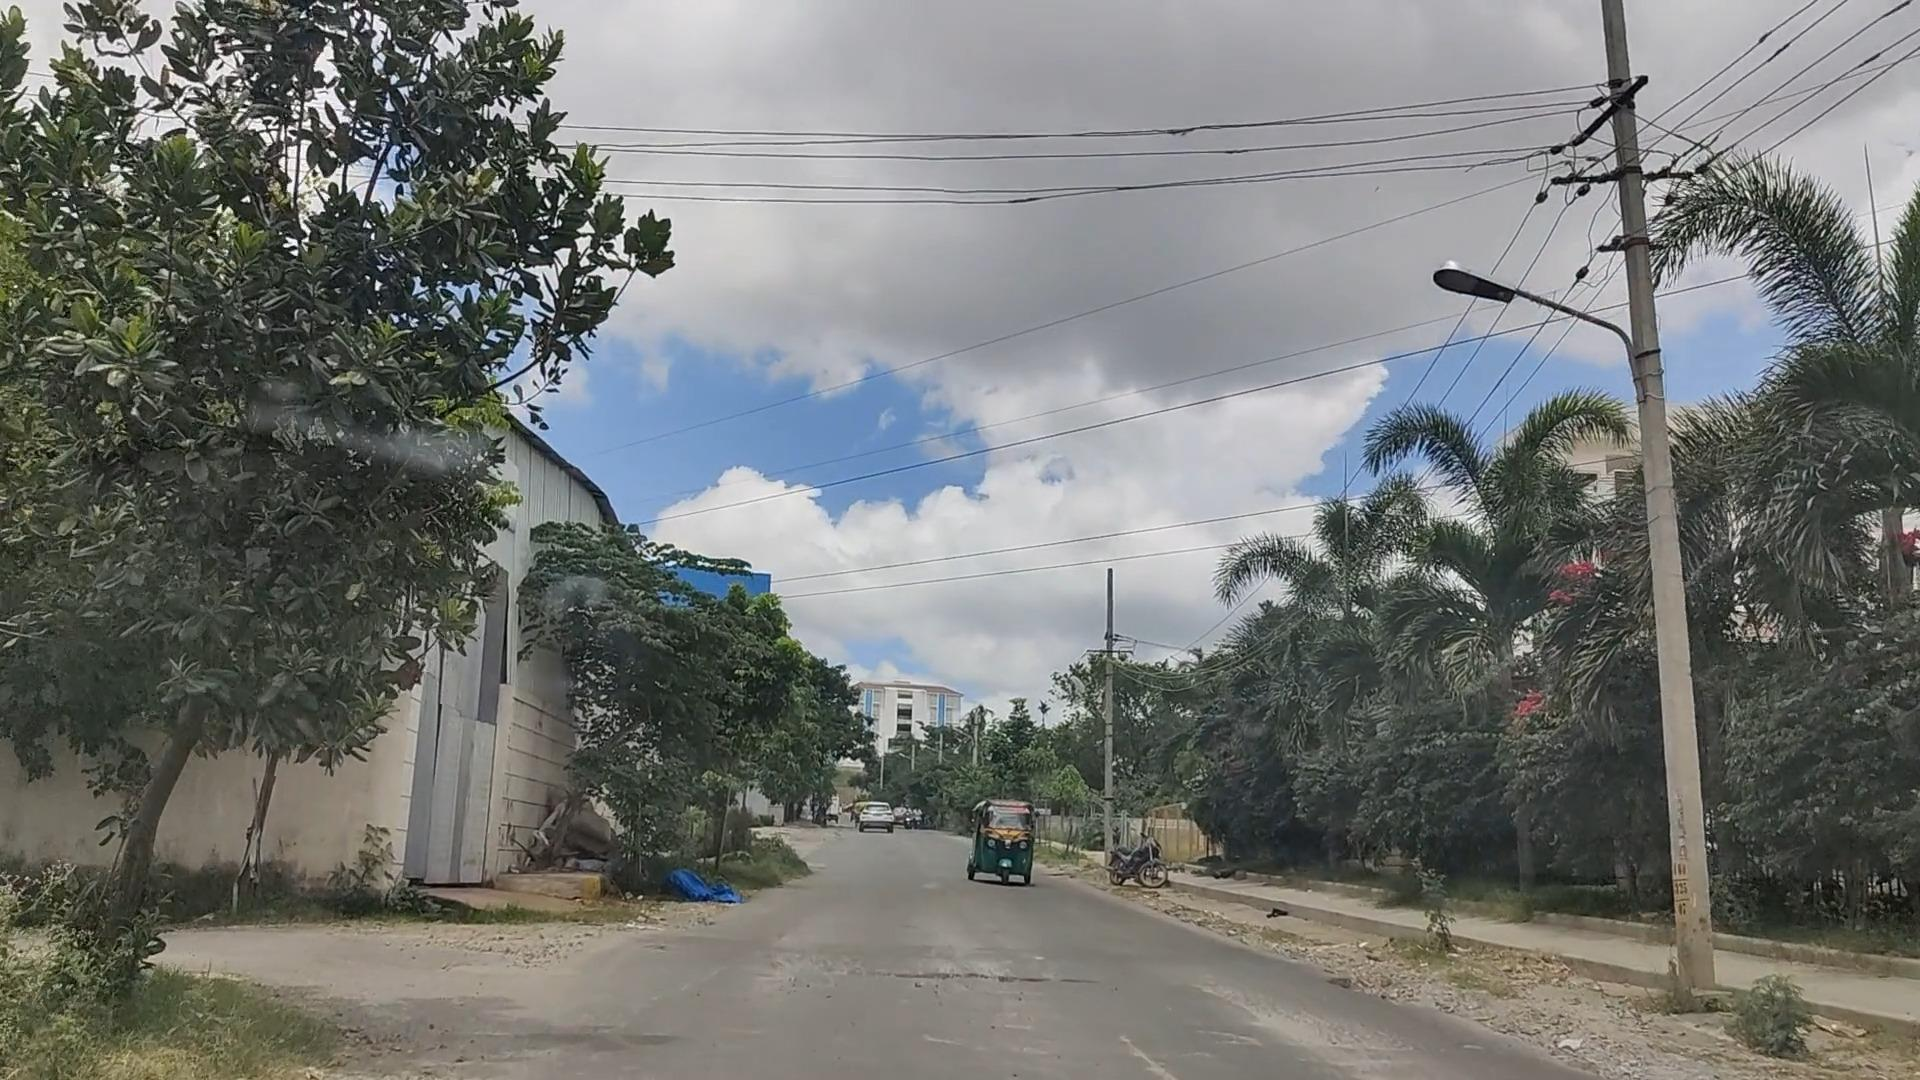RoadDamages: (857, 945, 1097, 1025)
